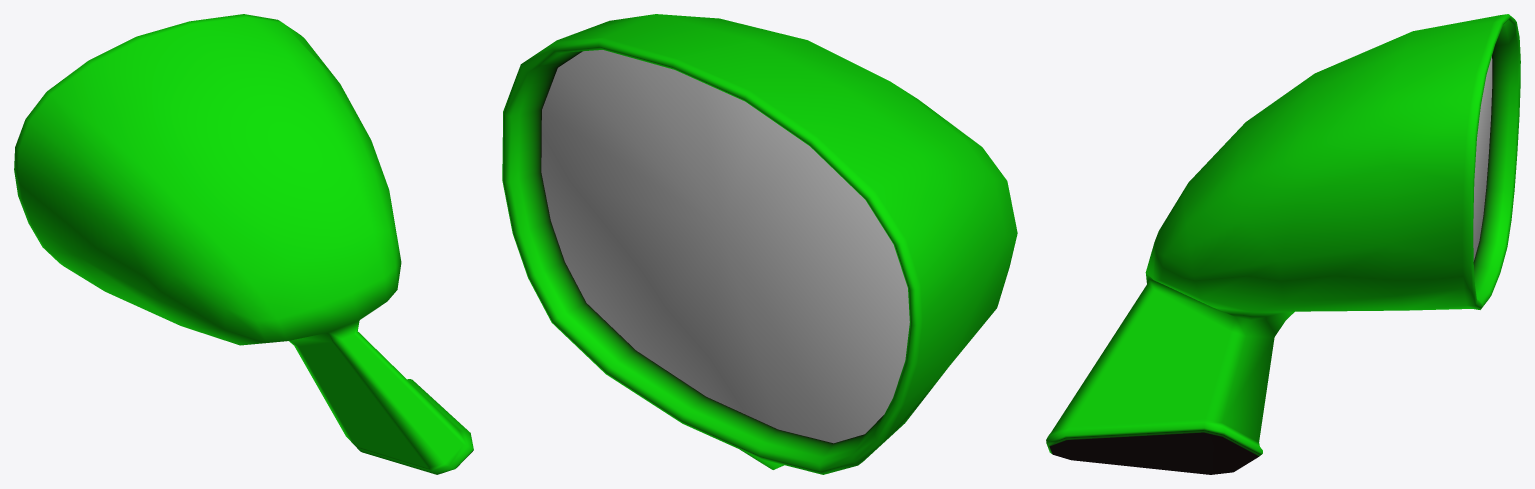
File: Car_Buick_GrandNational_1987_MirrorR_SetXS.fbx
The picture shows the model from 3 angles, left to right: view 1: azimuth 30°, elevation 25°; view 2: azimuth 150°, elevation 25°; view 3: azimuth 270°, elevation 25°; orthographic projection. The views are drawn at different scales.
Parts seen in each view (by area): view 1: MirrorR 6; view 2: MirrorR 6; view 3: MirrorR 6.
Boxes of the visible parts, x1,y1,x2,y2 form: MirrorR 6: (14, 14, 473, 474); MirrorR 6: (502, 14, 1017, 474); MirrorR 6: (1046, 14, 1520, 474).
Bounding box in the file's own units: 0.1534 × 0.1842 × 0.1963.
